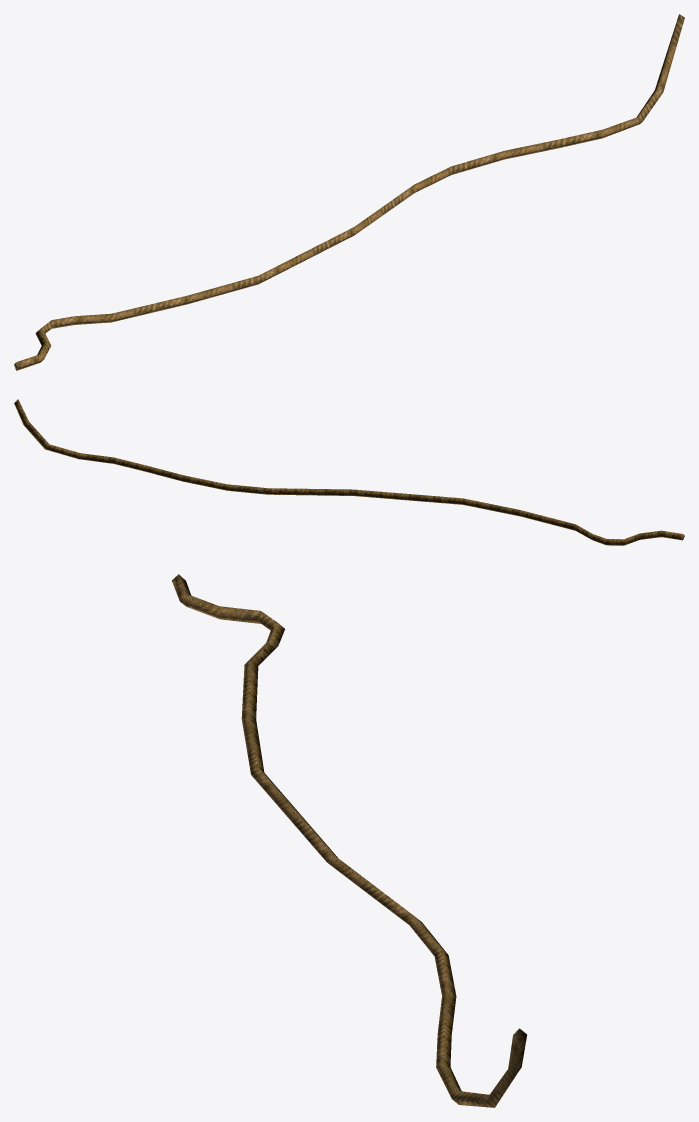
3 views of the same model, one above another, from view 1: azimuth 30°, elevation 25°; view 2: azimuth 150°, elevation 25°; view 3: azimuth 270°, elevation 25° (orthographic). The views are drawn at different scales.
Visible parts, largest first — view 1: Mesh; view 2: Mesh; view 3: Mesh.
Part boxes in pixels (box(x1,y1,x2,y2)): Mesh: box(14, 14, 684, 370); Mesh: box(14, 399, 684, 545); Mesh: box(172, 574, 526, 1107).
Bounding box in the file's own units: 11.24 × 1.15 × 2.96.
1 material, 1 textured.
